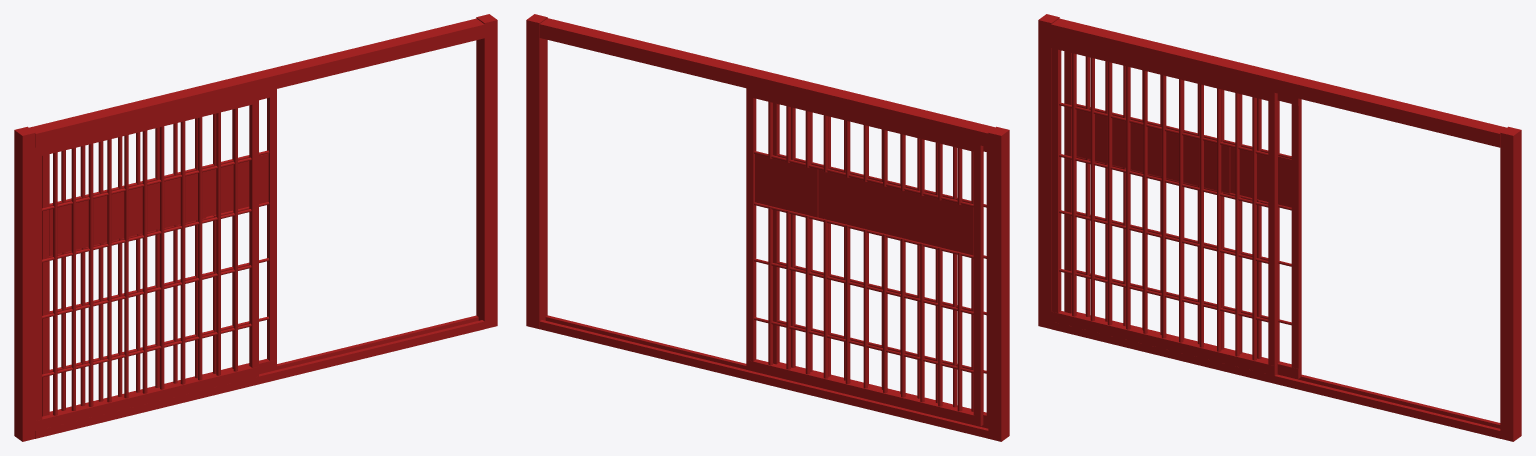
File: JailDoorOpen.obj
3 renders of one model, left to right at view 1: azimuth 30°, elevation 25°; view 2: azimuth 150°, elevation 25°; view 3: azimuth 330°, elevation 25°, orthographic.
Parts seen in each view (by area): view 1: JailDoorOpen; view 2: JailDoorOpen; view 3: JailDoorOpen.
Part boxes in pixels (x1,y1,x2,y2): JailDoorOpen: (14, 14, 497, 441); JailDoorOpen: (526, 14, 1009, 441); JailDoorOpen: (1038, 14, 1521, 441).
Size of the model in its own units: 201 by 124 by 6.21.
